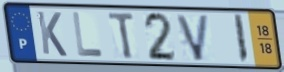2: (143, 11, 178, 63)
I: (232, 13, 251, 65)
K: (35, 10, 69, 59)
L: (71, 11, 105, 59)
T: (106, 11, 137, 61)
V: (174, 13, 211, 63)
